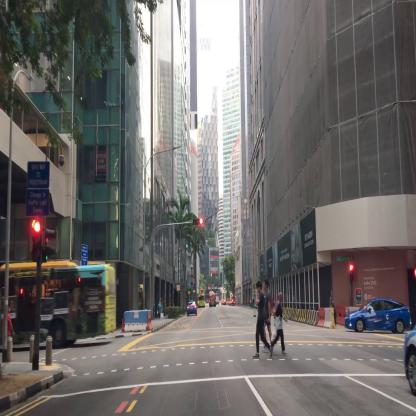red_traffic_light: (32, 220, 40, 260), (349, 264, 353, 283), (192, 219, 202, 224)
